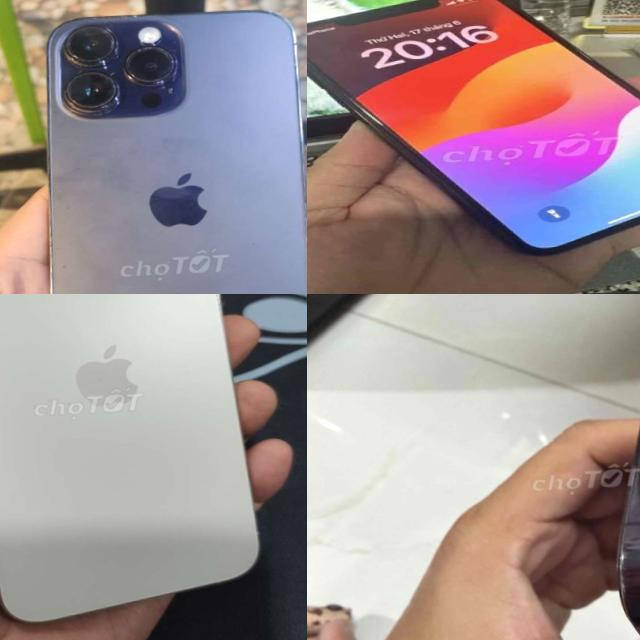gen_11: (307, 0, 640, 266)
gen_14: (30, 2, 307, 294)
gen_15: (0, 294, 273, 628)
